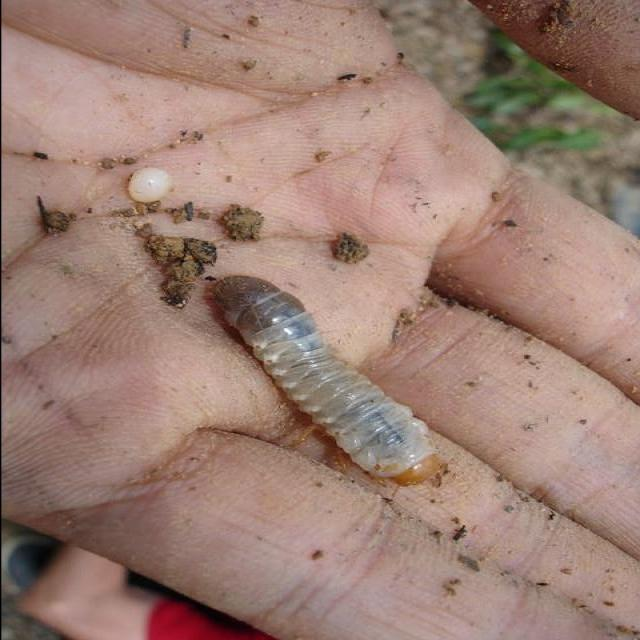grub: (197, 277, 458, 520), (128, 167, 178, 204)
